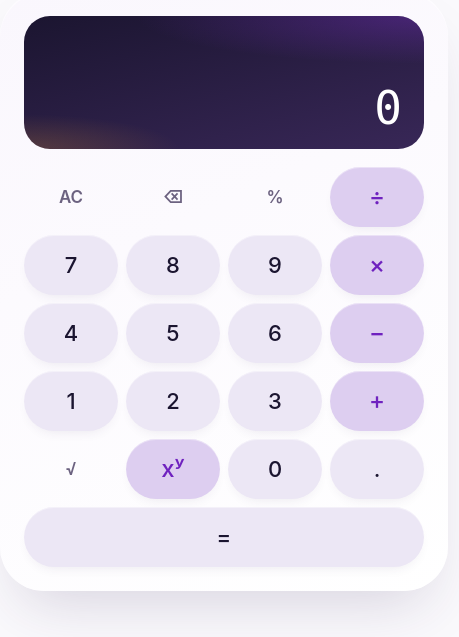
Scenario: Calculator › performs a single addition through the backend
Click the button "3".
click(275, 401)  # box [228,371,322,431]
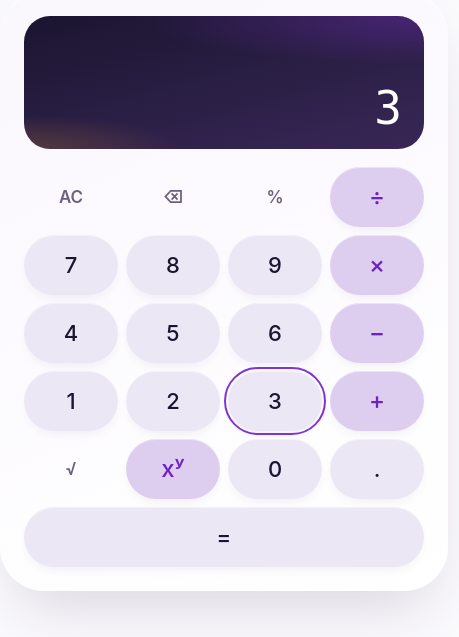
Click the button named "Add".
click(377, 401)  # box [330,371,424,431]
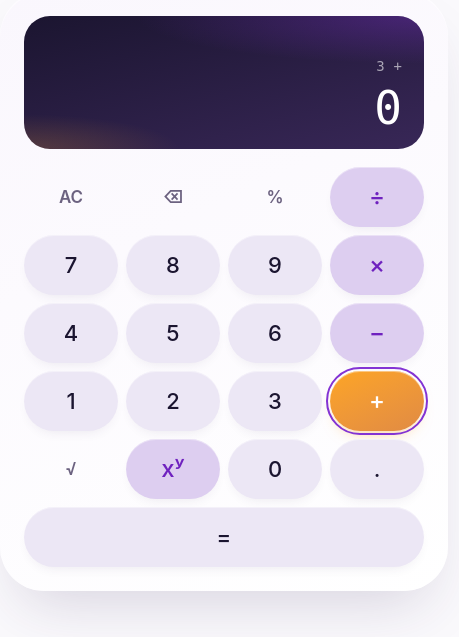
Click the button "4".
click(71, 333)  # box [24,303,118,363]
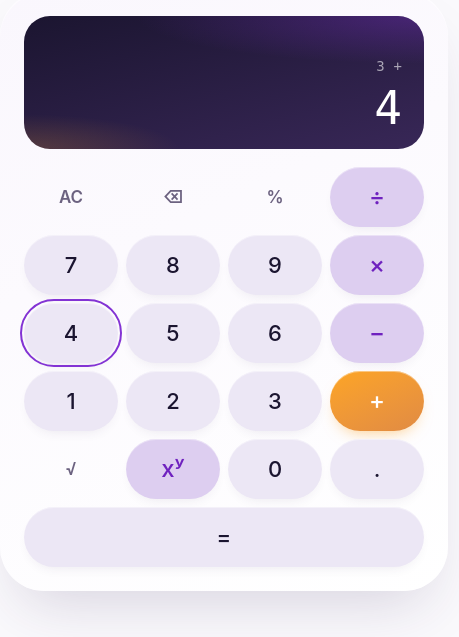
Click the button "=".
click(224, 537)  # box [24,507,424,567]
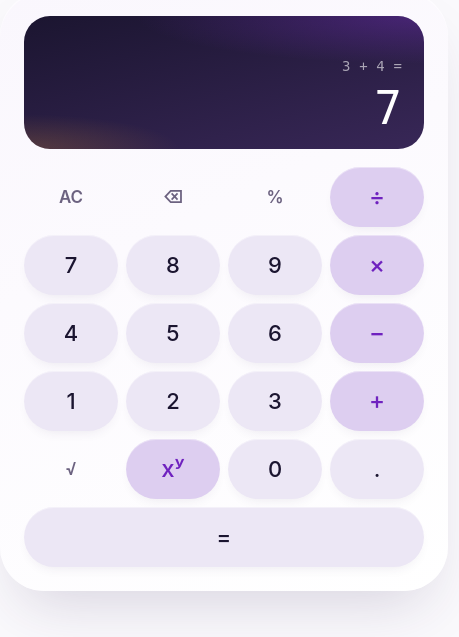
Check: the text with test id "calculator-display" reads "7", box [374,81,402,135]
